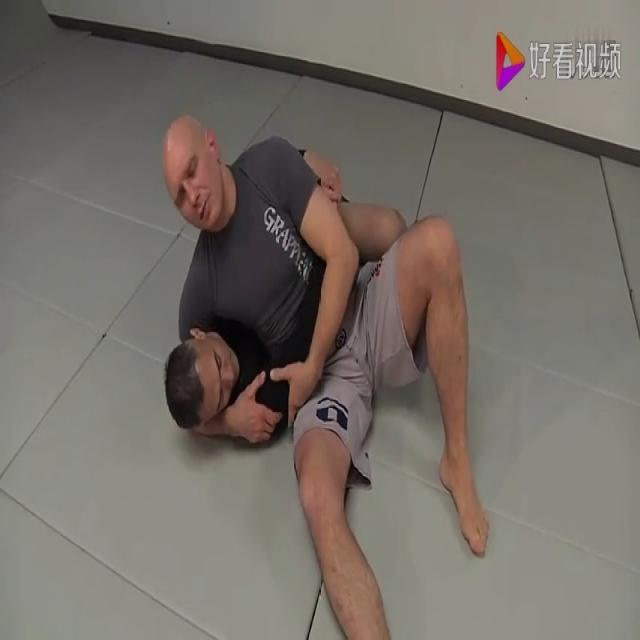fight: (160, 106, 489, 640)
